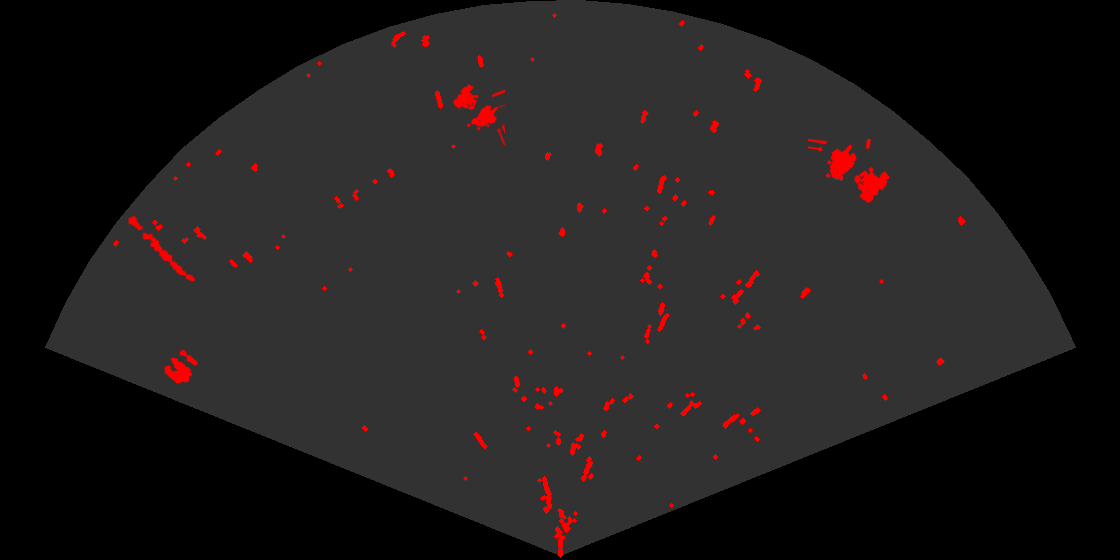ball: (163, 348, 199, 385)
cage: (808, 139, 891, 204), (452, 83, 505, 145)
chain: (126, 214, 197, 283)
